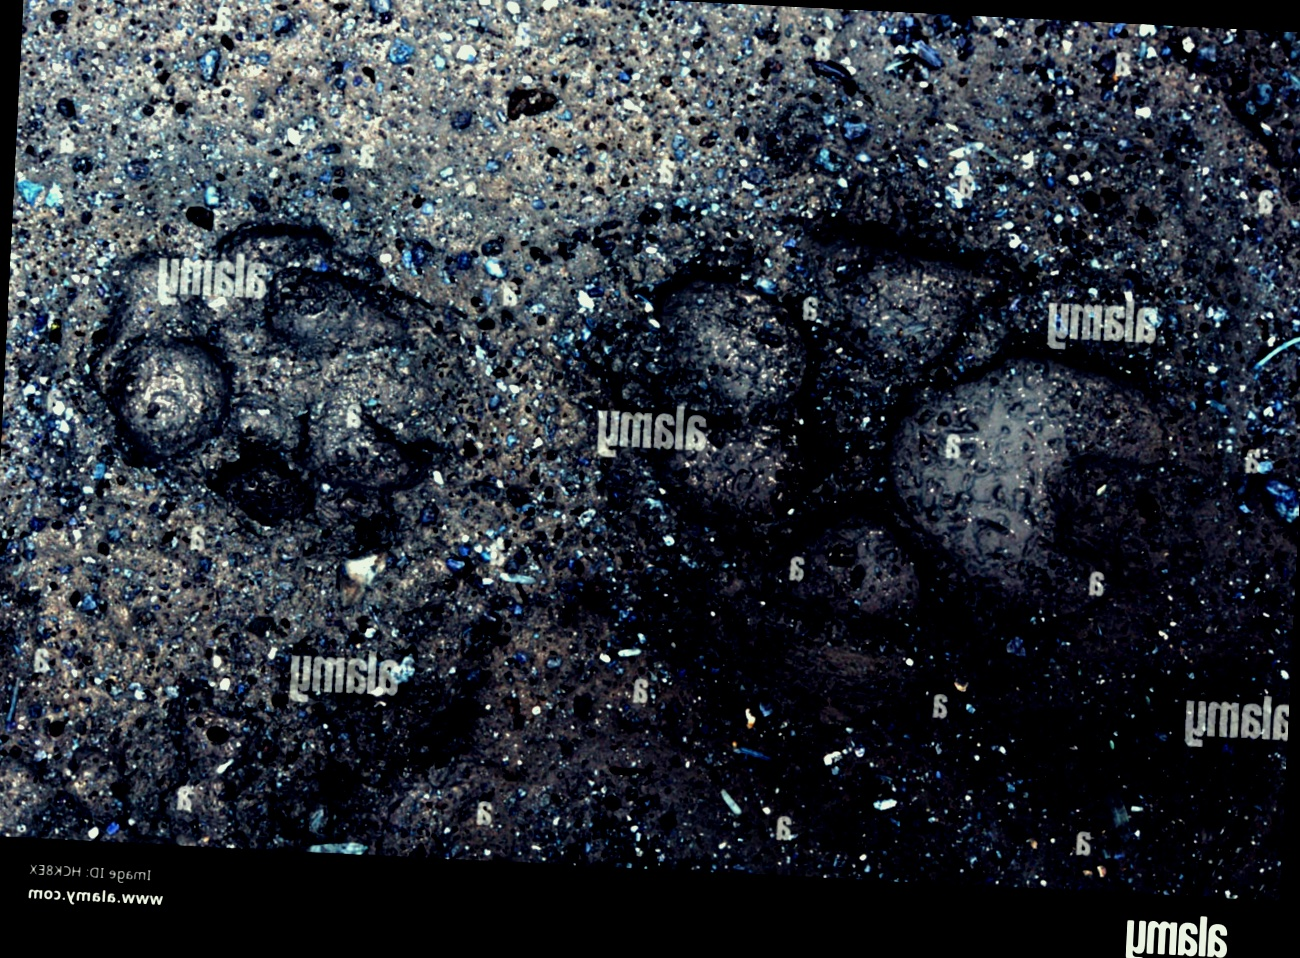loup: (94, 156, 739, 757), (803, 198, 1266, 613)
